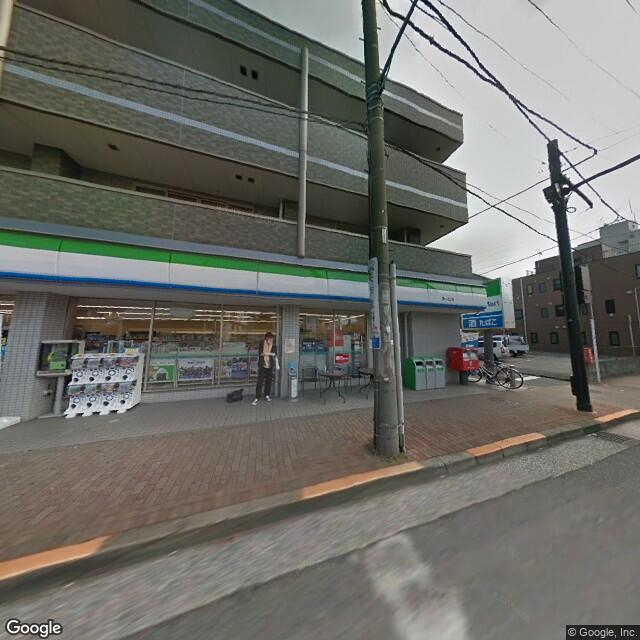family_mart: (2, 226, 489, 312), (471, 275, 506, 319)
